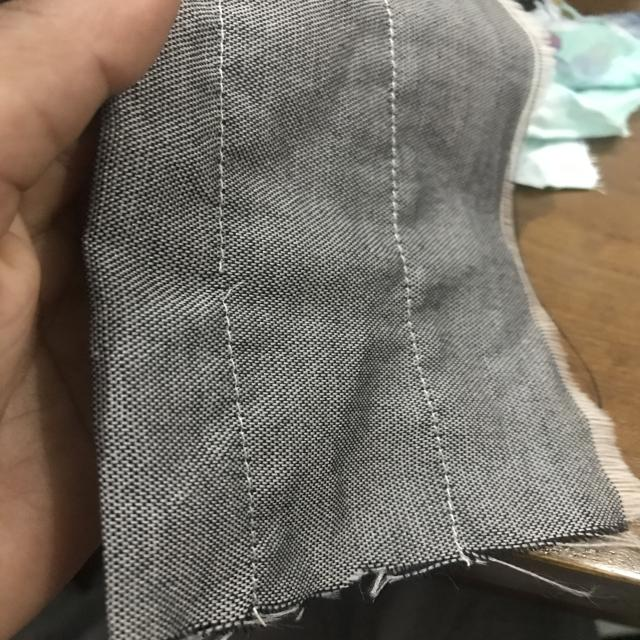broken: (208, 247, 260, 313)
